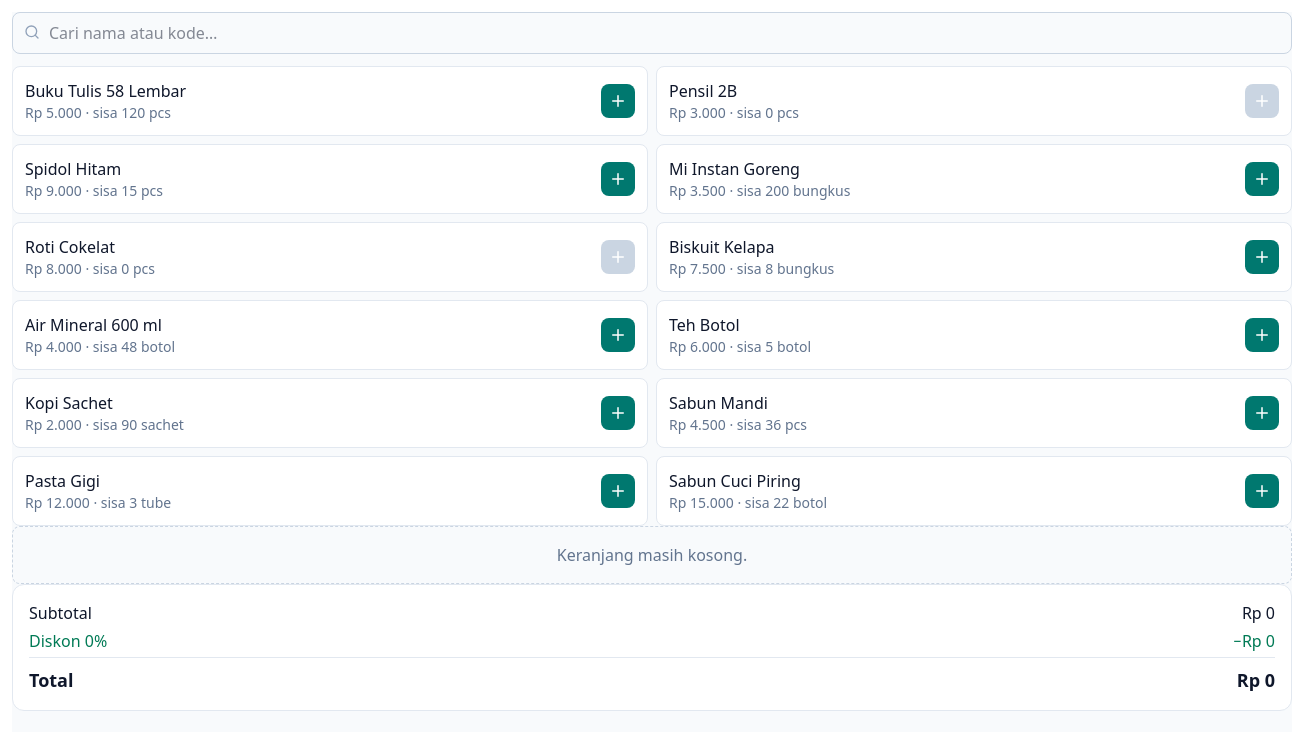
Test: Regresi: mengosongkan kolom jumlah › menghapus angka di kolom jumlah tidak menghapus baris keranjang
Click the button named "Tambah Sabun Cuci Piring ke keranjang" at point(1262, 491), box [1245,474,1279,508]
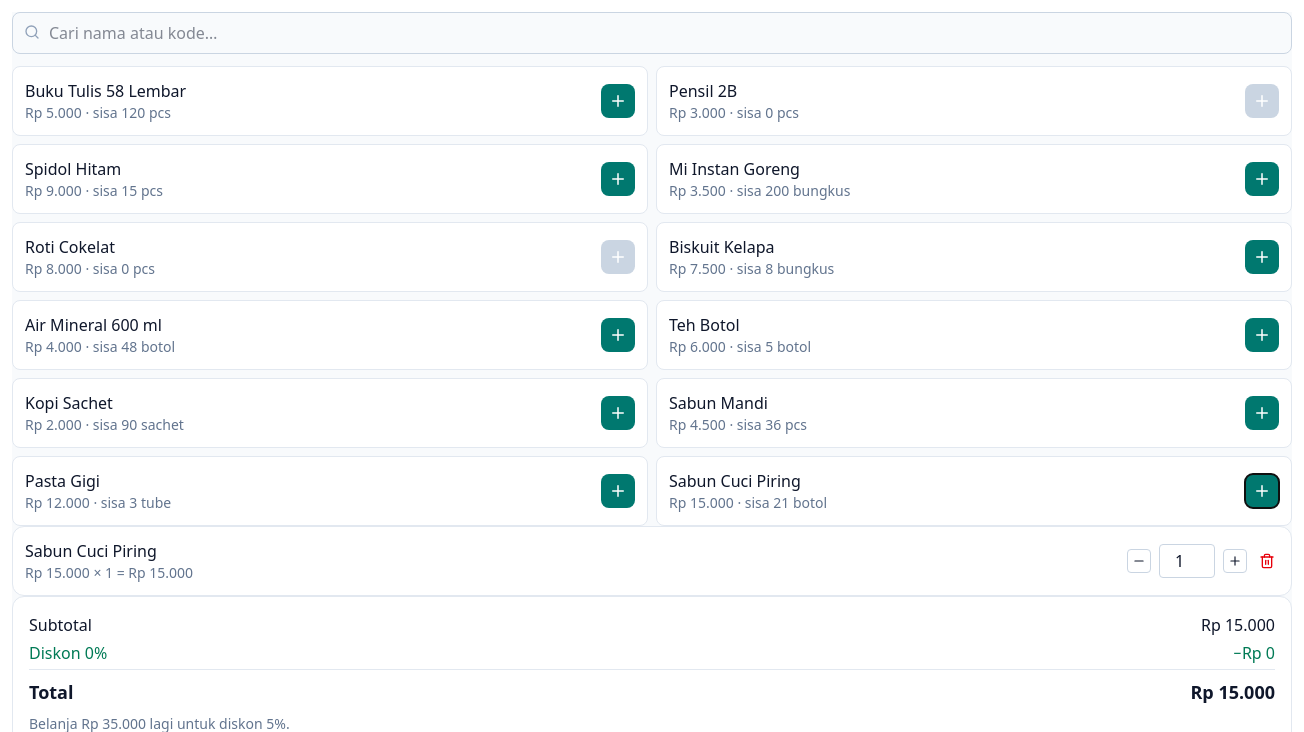
Clear the number field named "Jumlah Sabun Cuci Piring" at point(1187, 561), box [1159,544,1215,578]
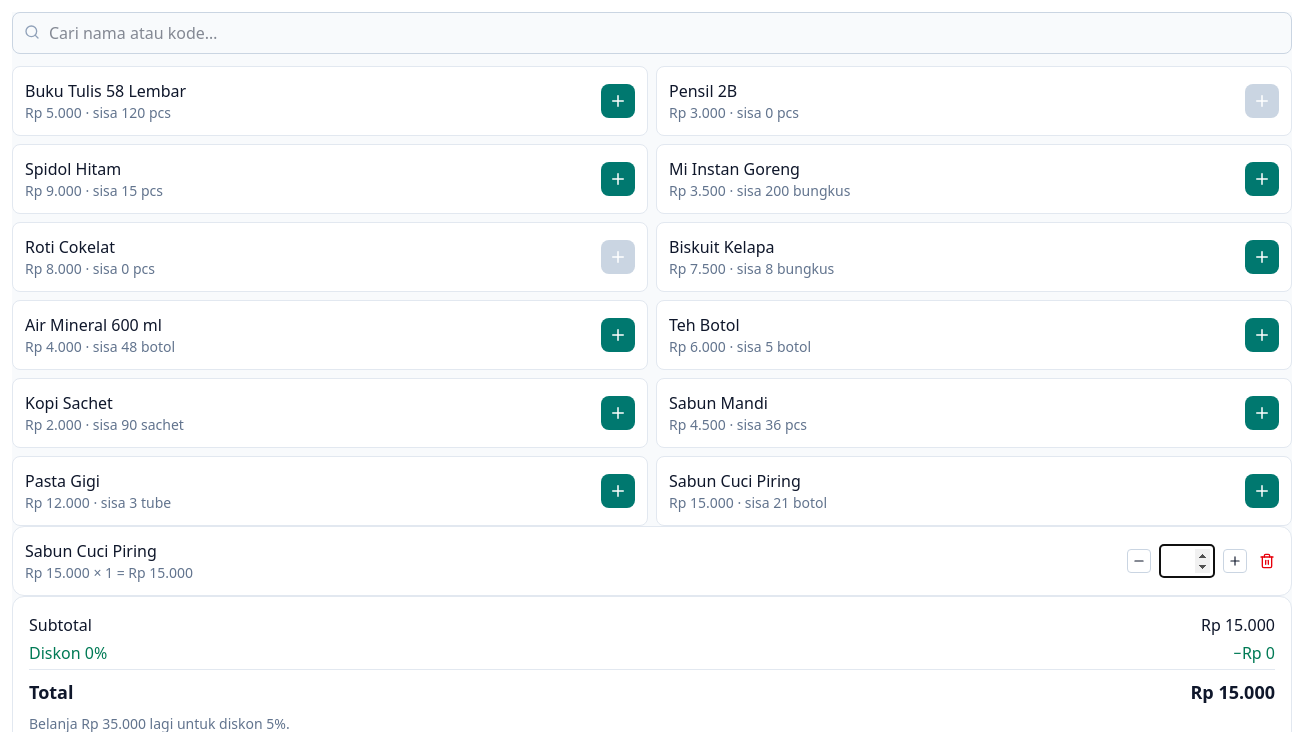
Type "4" into the number field named "Jumlah Sabun Cuci Piring" at point(1187, 561), box [1159,544,1215,578]
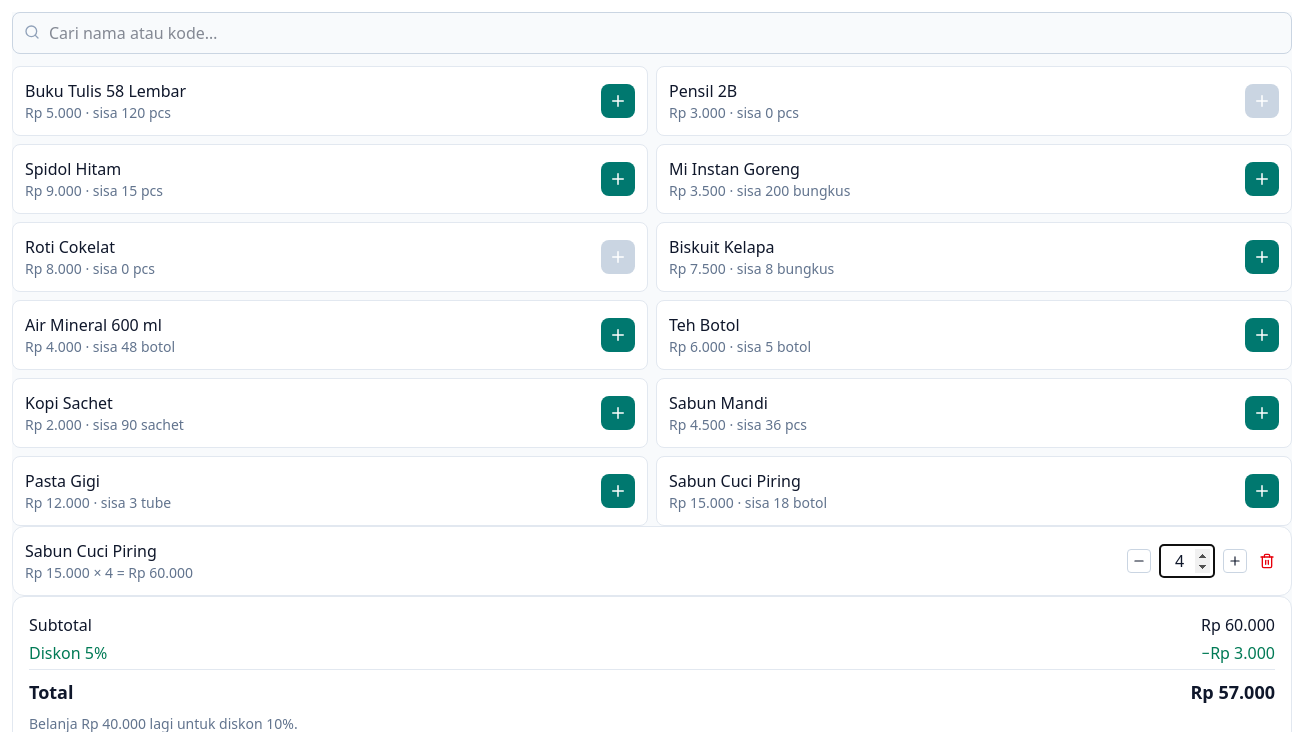
Check: the text "Rp 57.000" is shown, box [1190,678,1275,706]
